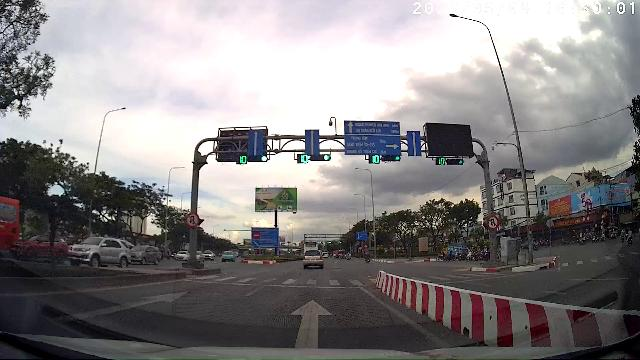124a-cam-quay-dau-xe: (186, 214, 200, 229), (486, 214, 499, 230)
